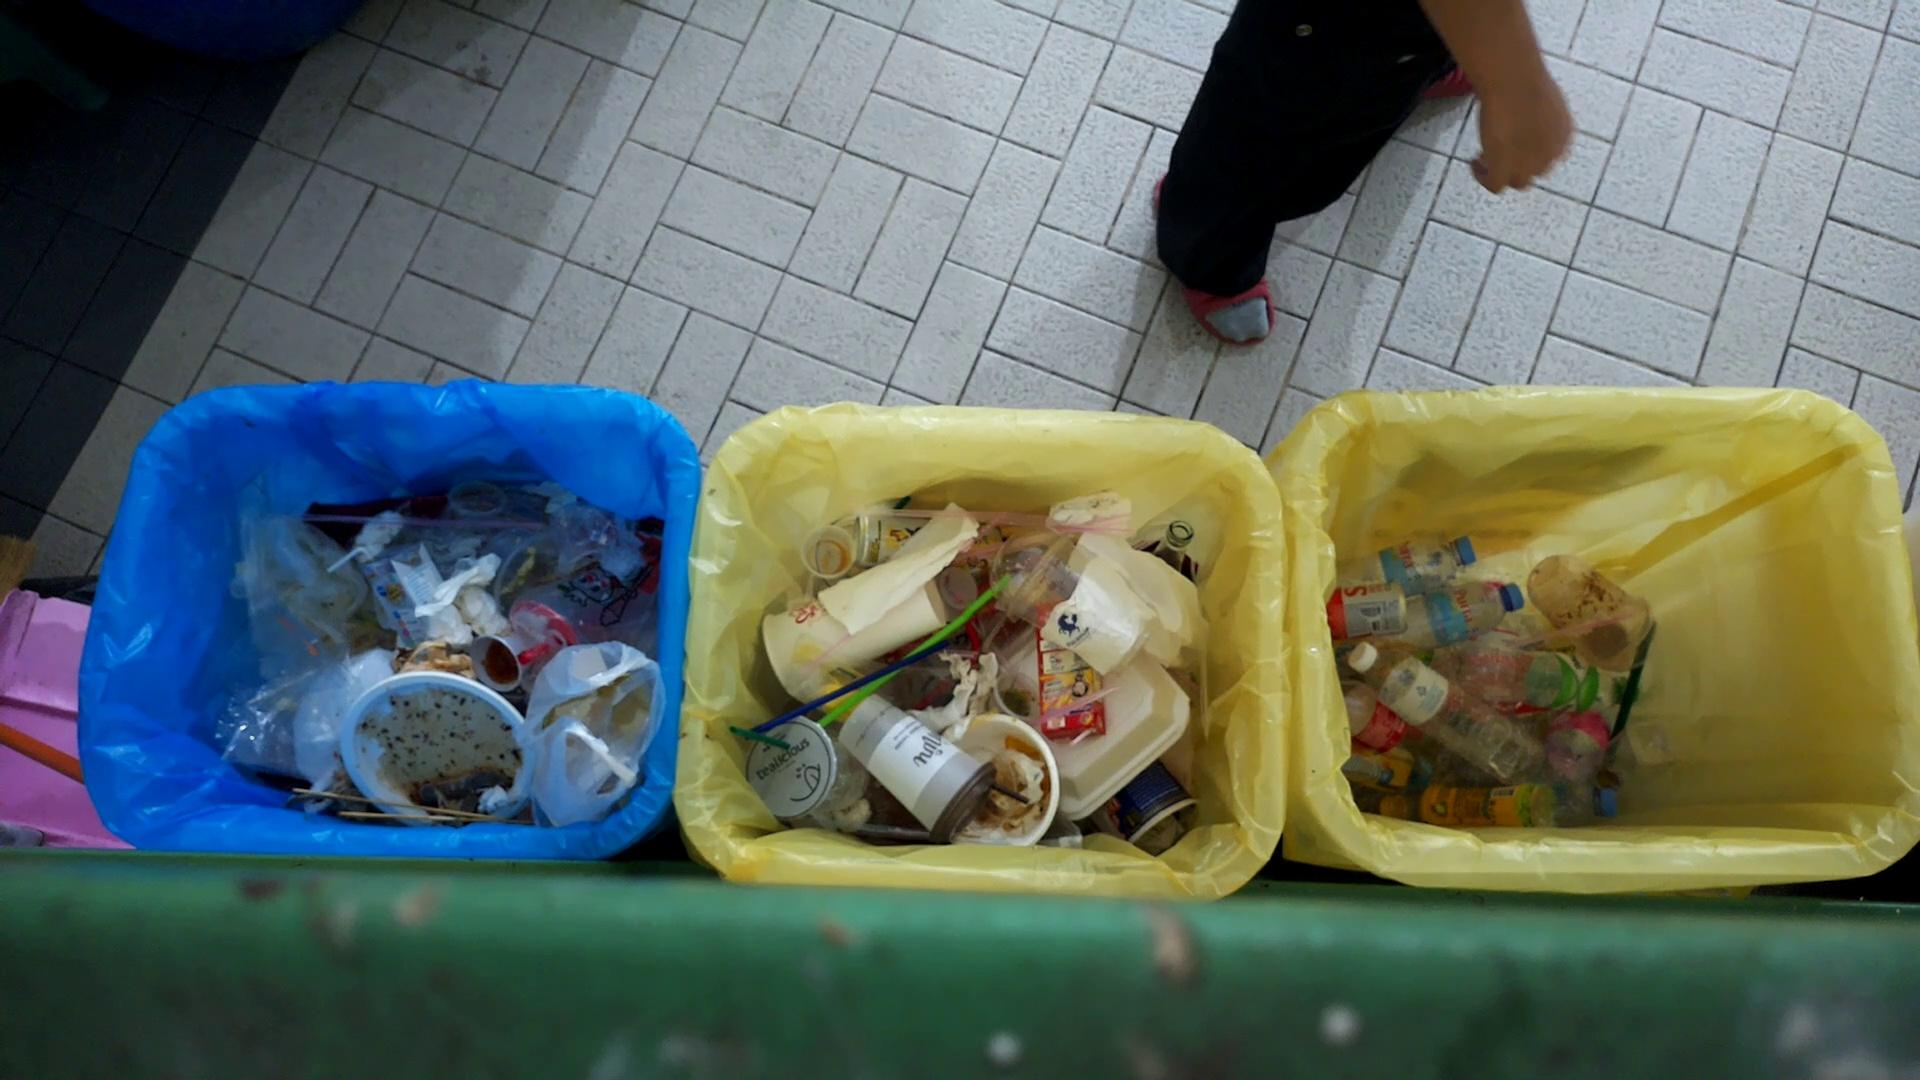dirty food container: (336, 671, 535, 824)
food container: (927, 715, 1064, 852), (472, 632, 531, 694), (803, 522, 856, 580)
milk carton: (360, 543, 455, 647), (1036, 613, 1109, 744)
plastic bottle: (1349, 641, 1551, 782), (1367, 582, 1527, 644), (1374, 782, 1555, 828), (1335, 534, 1480, 591)
plastic cup: (985, 524, 1158, 675), (839, 694, 998, 847), (1527, 551, 1658, 666), (749, 715, 839, 822)
sticks: (293, 785, 510, 824)
straw: (811, 566, 998, 737), (865, 506, 1104, 609), (749, 654, 934, 750), (902, 696, 980, 835), (978, 531, 1124, 585), (935, 574, 1117, 615), (302, 513, 556, 537), (725, 725, 793, 754)
tissue paper: (1035, 554, 1156, 676), (415, 554, 508, 642), (913, 642, 990, 733), (476, 785, 513, 820)
